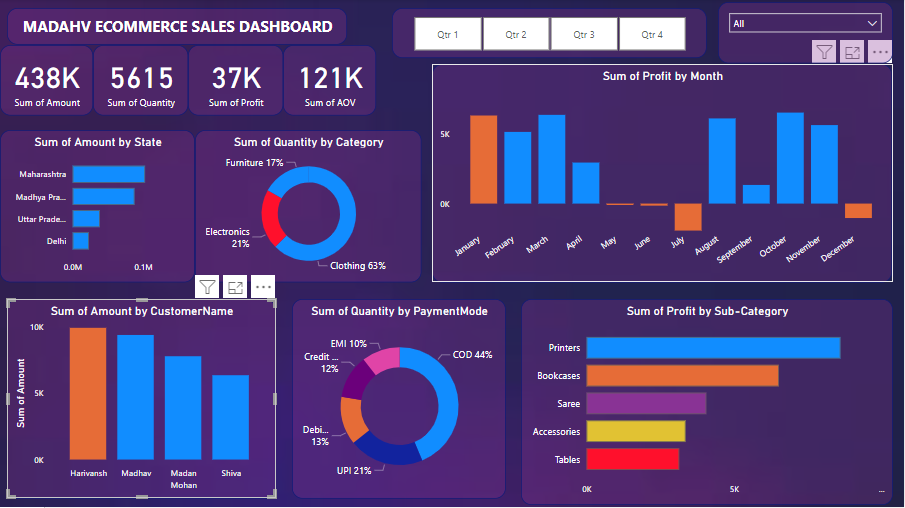

The page's visual inventory and layout, read from the dashboard file:
{"tool":"powerbi","page":{"name":"Page 1","canvas":[1280,720],"ordinal":0},"visuals":[{"type":"textbox","box":[10,12.7,481.8,51.8],"z":0},{"type":"barChart","fields":{"Category":["Details.Sub-Category"],"Y":["Details.Profit"]},"box":[738.1,425.4,527,292.1],"z":1000},{"type":"donutChart","fields":{"Category":["Details.Category"],"Y":["Details.Quantity"]},"box":[276.2,185.7,320.6,215.9],"z":2000},{"type":"donutChart","fields":{"Category":["Details.PaymentMode"],"Y":["Details.Quantity"]},"box":[414.3,425.4,303.2,282.5],"z":3000},{"type":"card","fields":{"Values":["Details.Amount"]},"box":[0,65.1,131.7,100],"z":4000},{"type":"card","fields":{"Values":["Details.Quantity"]},"box":[131.7,65.1,134.9,100],"z":5000},{"type":"card","fields":{"Values":["Details.Profit"]},"box":[266.7,65.1,134.9,100],"z":6000},{"type":"card","fields":{"Values":["Details.AOV"]},"box":[401.6,65.1,131.7,100],"z":7000},{"type":"barChart","fields":{"Category":["Orders.State"],"Y":["Details.Amount"]},"box":[0,185.7,276.2,215.9],"z":8000},{"type":"columnChart","fields":{"Category":["Orders.CustomerName"],"Y":["Details.Amount"]},"box":[9.5,425.4,381,282.5],"z":9000},{"type":"columnChart","fields":{"Y":["Details.Profit"],"Category":["Orders.Order Date.Variation.Date Hierarchy.Month"]},"box":[612.7,92.1,652.4,309.5],"z":9001},{"type":"slicer","fields":{"Values":["Orders.Order Date.Variation.Date Hierarchy.Quarter"]},"box":[555.6,12.7,446,71.4],"z":9002},{"type":"slicer","fields":{"Values":["Orders.State"]},"box":[1017.5,4.8,247.6,87.3],"z":9003}]}

Visuals, with their boxes in screenshot pixels (x1, y1, x2, y2), scaled from the page's 1280x720 canvas onto the 905x508 screenshot:
textbox: region(7, 9, 348, 46)
barChart - Details.Sub-Category x Details.Profit: region(522, 300, 894, 506)
donutChart - Details.Category x Details.Quantity: region(195, 131, 422, 283)
donutChart - Details.PaymentMode x Details.Quantity: region(293, 300, 507, 499)
card - Details.Amount: region(0, 46, 93, 116)
card - Details.Quantity: region(93, 46, 188, 116)
card - Details.Profit: region(189, 46, 284, 116)
card - Details.AOV: region(284, 46, 377, 116)
barChart - Orders.State x Details.Amount: region(0, 131, 195, 283)
columnChart - Orders.CustomerName x Details.Amount: region(7, 300, 276, 499)
columnChart - Details.Profit x Orders.Order Date.Variation.Date Hierarchy.Month: region(433, 65, 894, 283)
slicer - Orders.Order Date.Variation.Date Hierarchy.Quarter: region(393, 9, 708, 59)
slicer - Orders.State: region(719, 3, 894, 65)
